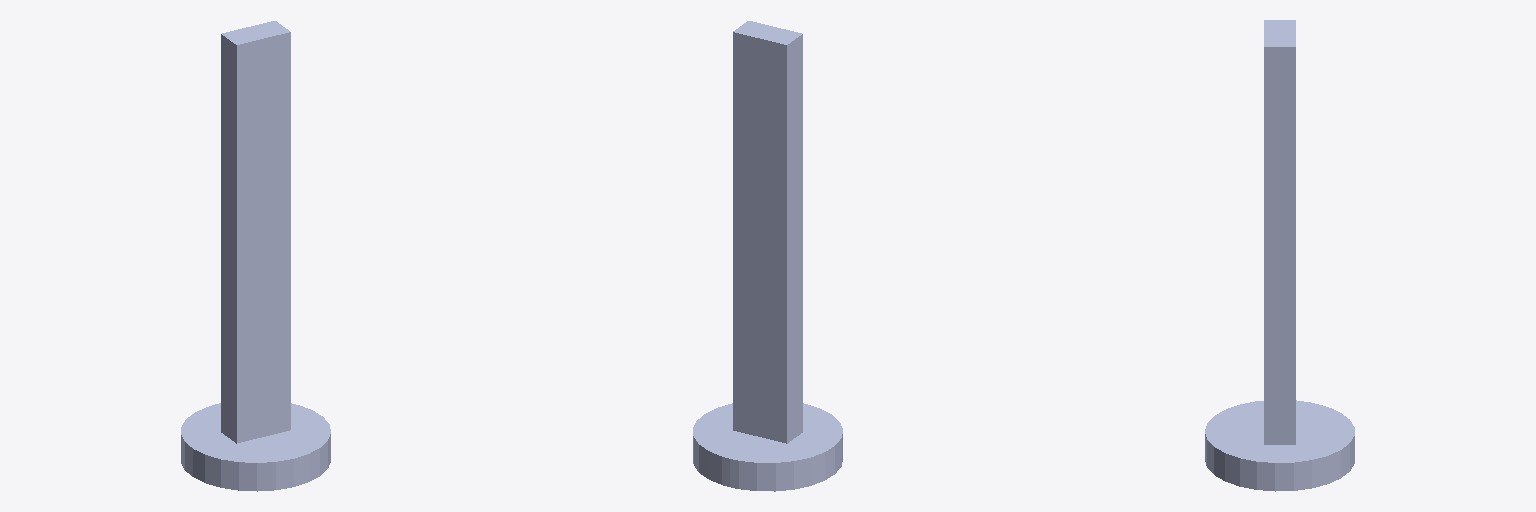
URDF robot description (small_jig_urdf):
<?xml version="1.0"?>
<!-- This URDF was automatically created by SolidWorks to URDF Exporter! Originally created by Stephen Brawner (brawner@gmail.com) 
     Commit Version: v1.6.1-dev1-4-g75b5c6a  Build Version: 1.6.9609.37988
     For more information, please see http://wiki.ros.org/sw_urdf_exporter -->
<robot
  name="small_jig_urdf">
  <link
    name="small_jig_link">
    <inertial>
      <origin
        xyz="1.11022302462516E-16 -2.77555756156289E-17 0.0270284220182594"
        rpy="0 0 0" />
      <mass
        value="0.1" />
      <inertia
        ixx="5.1675e-05"
        ixy="0"
        ixz="0"
        iyy="5.165607469e-05"
        iyz="0"
        izz="9.581074691e-06" />
    </inertial>
    <visual>
      <origin
        xyz="0 0 0"
        rpy="0 0 0" />
      <geometry>
        <mesh
          filename="package://small_jig_urdf/meshes/small_jig_link.STL" />
      </geometry>
      <material
        name="">
        <color
          rgba="0.792156862745098 0.819607843137255 0.933333333333333 1" />
      </material>
    </visual>
    <collision>
      <origin
        xyz="0 0 0.0375"
        rpy="0 0 0" />
      <geometry>
        <box
          size="0.02395264 0.006 0.075" />
      </geometry>
    </collision>
  </link>
</robot>

--- Render facts (derived) ---
The picture shows the robot from 3 angles, left to right: view 1: azimuth 30°, elevation 25°; view 2: azimuth 150°, elevation 25°; view 3: azimuth 270°, elevation 25°; orthographic projection.
Robot: small_jig_urdf — 1 links, 0 joints (none); root link small_jig_link; default pose: every joint at zero.
Links seen in each view (by area): view 1: small_jig_link; view 2: small_jig_link; view 3: small_jig_link.
Boxes of the visible links, box(x1,y1,x2,y2) form: small_jig_link: box(181, 21, 330, 491); small_jig_link: box(693, 21, 842, 491); small_jig_link: box(1205, 20, 1354, 491).
Bounding box of the posed robot: 0.024 × 0.024 × 0.075 m (x, y, z).
1 mesh visuals loaded from 1 distinct referenced files (1 binary STL).
